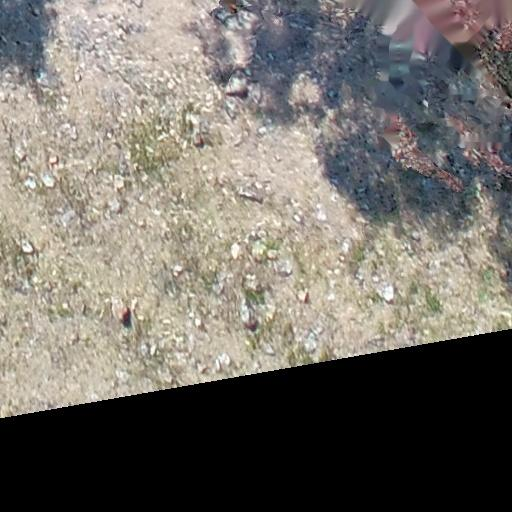stone: (140, 323, 202, 371), (238, 298, 260, 332), (111, 298, 133, 330), (225, 73, 251, 99), (237, 182, 266, 204), (35, 66, 59, 92), (114, 16, 142, 38), (214, 268, 233, 292), (375, 287, 399, 304), (58, 122, 78, 142), (223, 95, 239, 120), (302, 330, 320, 352), (213, 352, 232, 372), (242, 272, 261, 292), (273, 259, 293, 277), (58, 208, 76, 228), (250, 240, 268, 260), (184, 111, 200, 132), (107, 195, 122, 215), (314, 203, 328, 223), (139, 340, 154, 358), (14, 143, 28, 162), (194, 314, 208, 333), (40, 172, 56, 188), (260, 340, 276, 356), (290, 288, 310, 300), (114, 368, 131, 382), (20, 239, 35, 254), (169, 263, 185, 277), (111, 173, 124, 190), (230, 242, 242, 260), (24, 176, 38, 190), (193, 132, 205, 148), (340, 238, 351, 254), (266, 249, 280, 261), (48, 155, 59, 167), (410, 231, 422, 242), (292, 212, 303, 224), (257, 124, 269, 135), (73, 70, 83, 82), (328, 293, 337, 303)
